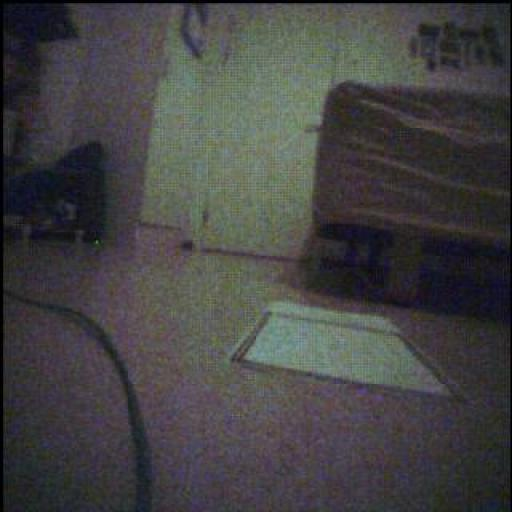pad: (233, 303, 460, 398)
